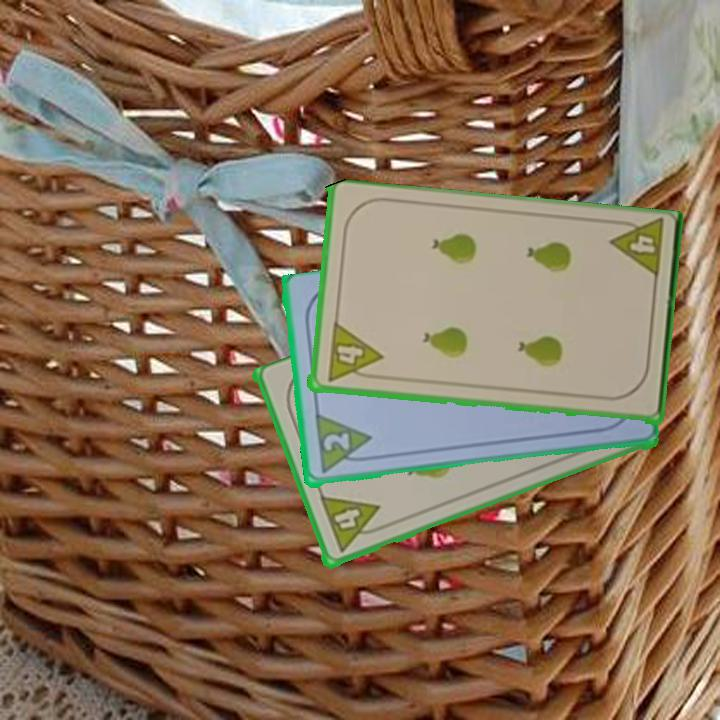2p: (319, 429, 353, 455)
4p: (317, 493, 388, 556), (606, 216, 667, 284), (323, 320, 383, 385)
